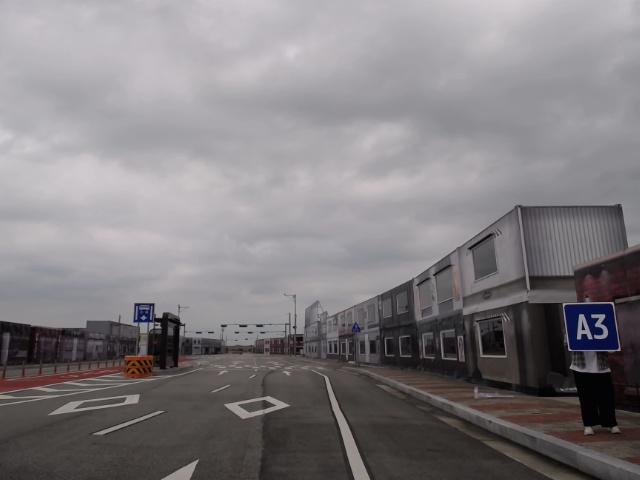delivery_a3: (563, 303, 620, 351)
